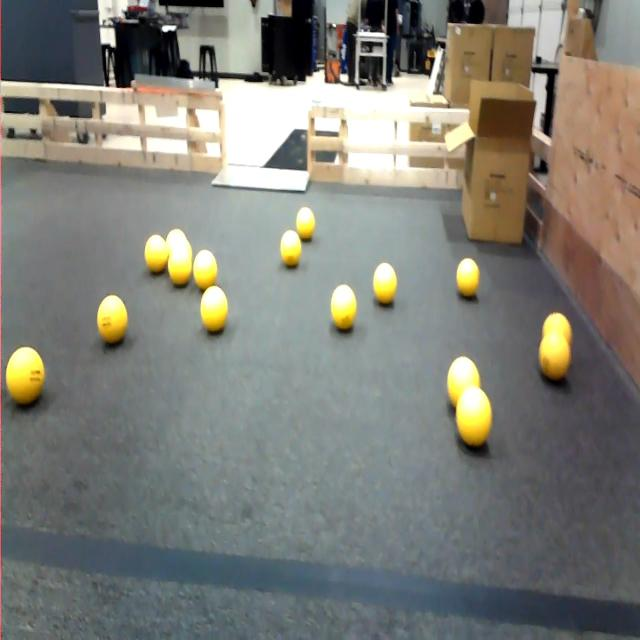fuel: (0, 329, 55, 421), (89, 286, 138, 360), (449, 384, 496, 453), (320, 271, 364, 339), (194, 277, 236, 341), (368, 250, 408, 313), (449, 248, 486, 316), (444, 351, 483, 406), (540, 302, 582, 348), (189, 243, 225, 296), (535, 333, 571, 385), (271, 221, 308, 268), (140, 228, 170, 282), (166, 239, 195, 286), (293, 202, 319, 243), (162, 216, 189, 247)
